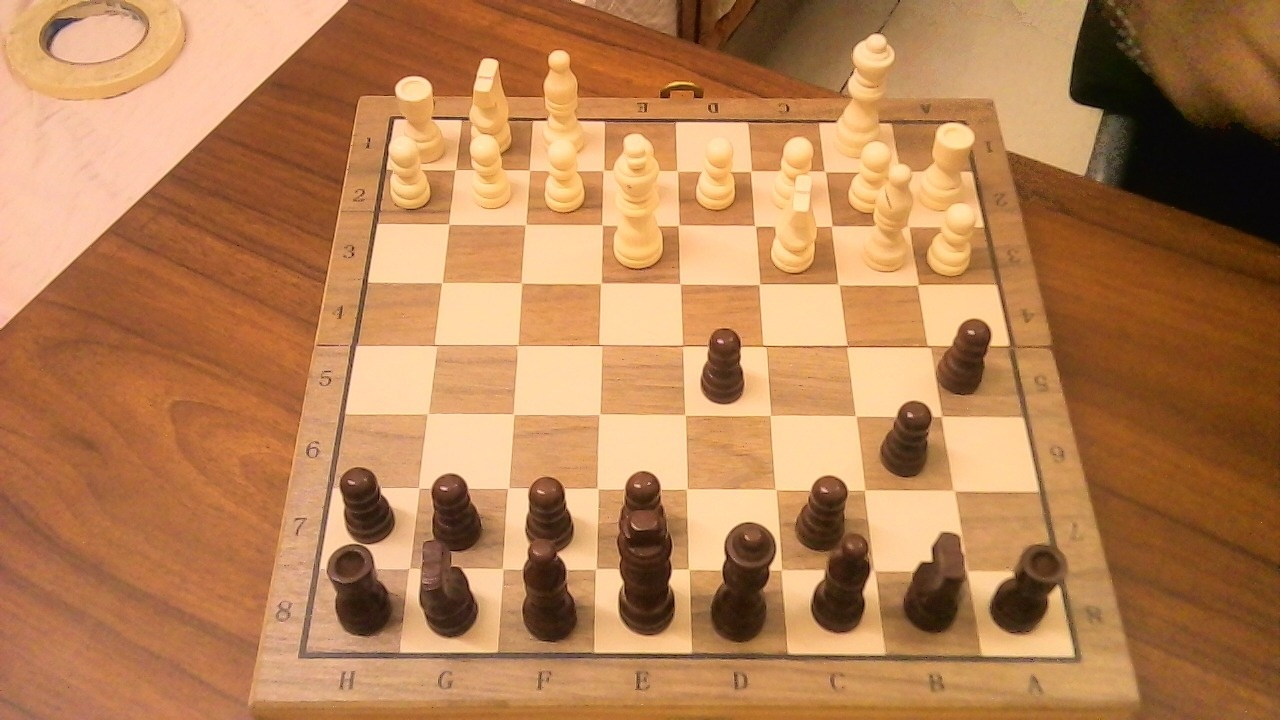B: (855, 153, 923, 278), (535, 38, 593, 159)
K: (606, 124, 674, 271)
N: (763, 163, 829, 277), (461, 48, 520, 159)
P: (841, 132, 906, 219), (459, 124, 518, 214), (923, 194, 986, 278), (764, 128, 822, 215), (535, 130, 592, 217), (688, 127, 744, 215), (382, 127, 438, 211)
Q: (829, 21, 900, 164)
R: (917, 111, 983, 217), (390, 66, 451, 167)
b: (509, 539, 591, 646), (828, 521, 884, 639)
k: (610, 520, 680, 640)
n: (901, 517, 979, 635), (411, 527, 490, 641)
p: (603, 458, 679, 565), (331, 456, 405, 545), (874, 388, 944, 481), (691, 317, 756, 408), (937, 306, 1001, 397), (432, 473, 482, 552), (522, 477, 576, 550), (803, 475, 853, 550)
q: (701, 509, 790, 647)
r: (984, 531, 1076, 638), (322, 533, 402, 638)
